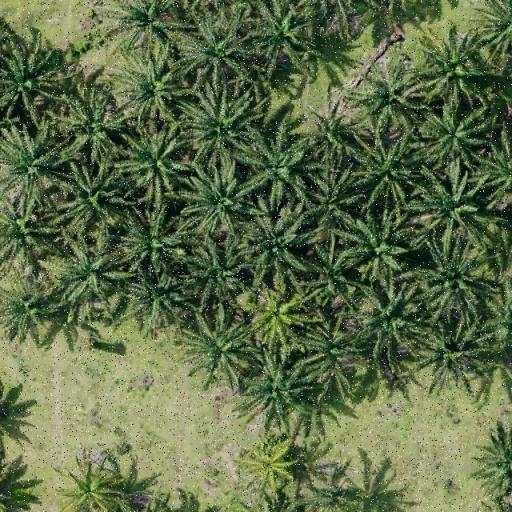Ganoderma: (244, 439, 296, 487), (254, 293, 305, 339), (62, 466, 111, 511)
